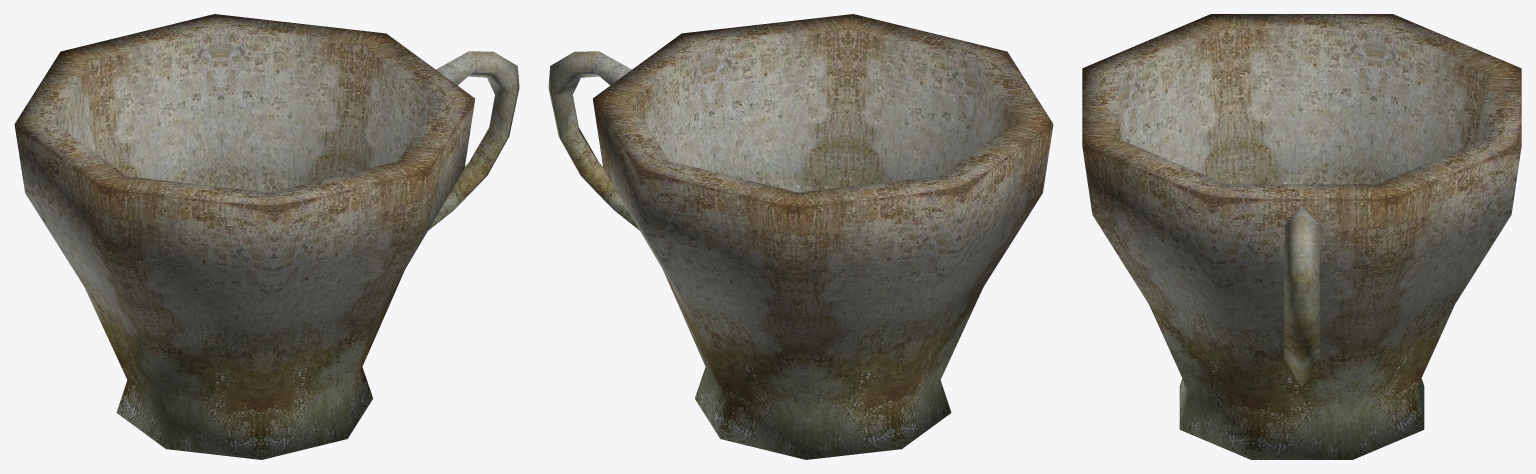
The model's file is GS_HOUSE_CUP_TEA_01_DRP.glb.
3 renders of one model, left to right at view 1: azimuth 30°, elevation 25°; view 2: azimuth 150°, elevation 25°; view 3: azimuth 270°, elevation 25°, orthographic. The views are drawn at different scales.
Visible parts, largest first — view 1: Mesh; view 2: Mesh; view 3: Mesh.
Boxes of the visible parts, x1,y1,x2,y2 form: Mesh: (14, 14, 519, 459); Mesh: (548, 14, 1053, 459); Mesh: (1082, 14, 1521, 459).
Size of the model in its own units: 0.2015 by 0.1254 by 0.1627.
Materials: 1 (1 with a texture image).
